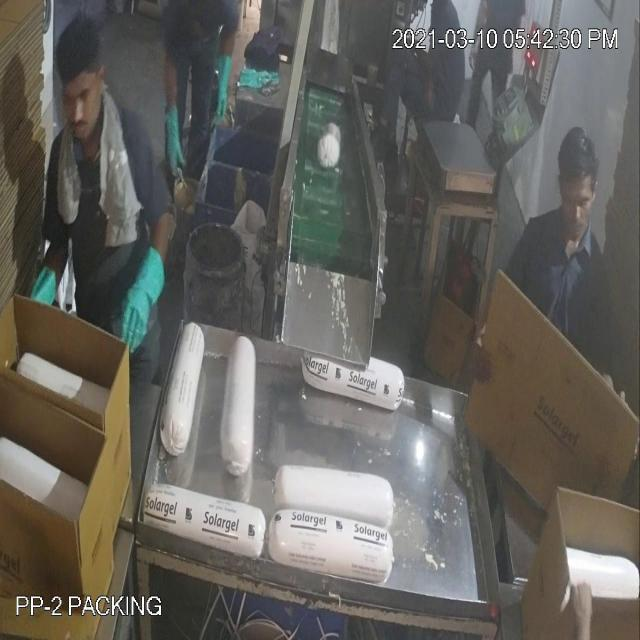Gloves: (29, 86, 222, 292)
